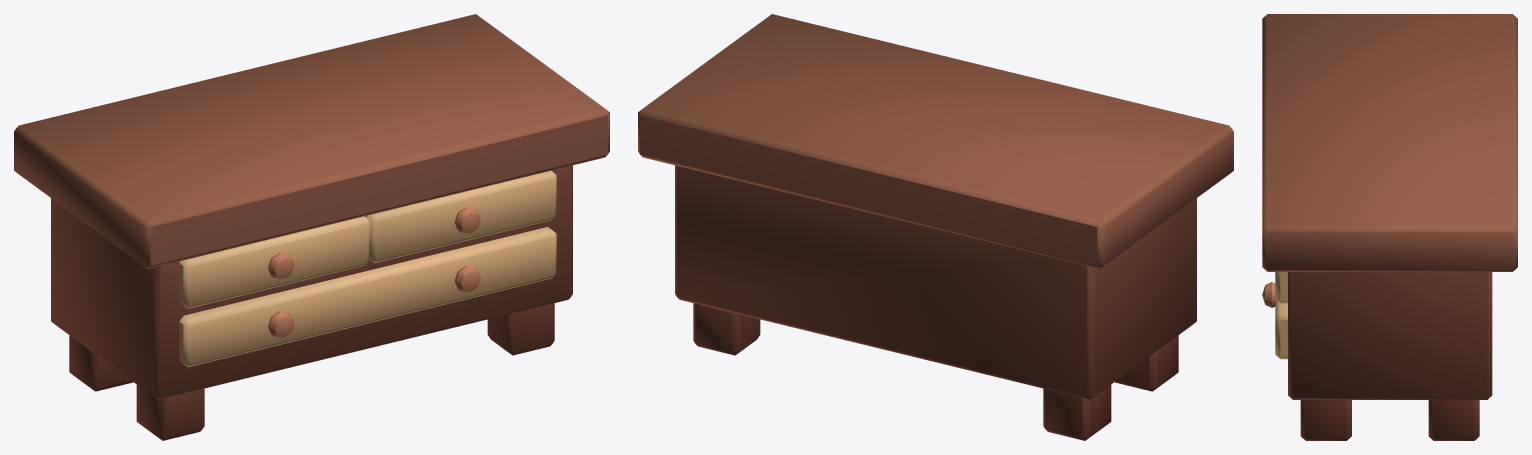
The model's file is cabinet-medium.glb.
3 renders of one model, left to right at view 1: azimuth 30°, elevation 25°; view 2: azimuth 150°, elevation 25°; view 3: azimuth 270°, elevation 25°, orthographic. The views are drawn at different scales.
Visible parts, largest first — view 1: cabinet_medium; view 2: cabinet_medium; view 3: cabinet_medium.
Part boxes in pixels (left/top/right/bottom): cabinet_medium: left=14, top=14, right=609, bottom=440; cabinet_medium: left=638, top=14, right=1233, bottom=440; cabinet_medium: left=1262, top=14, right=1517, bottom=440.
Size of the model in its own units: 2 by 1 by 1.
